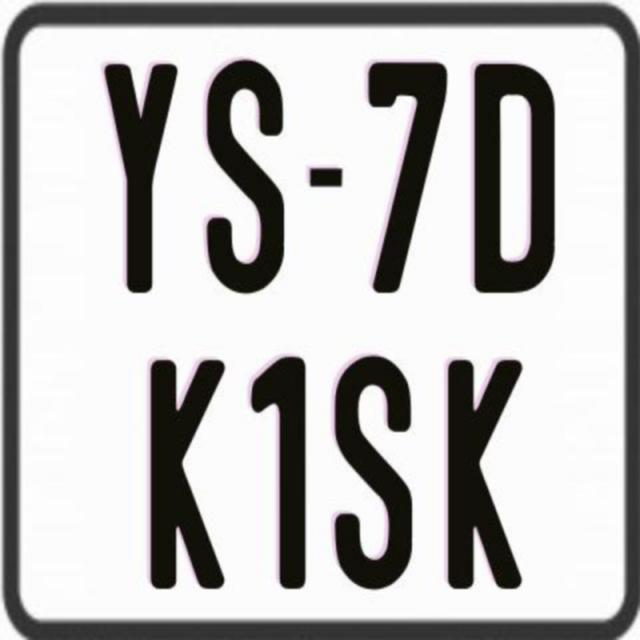1: (248, 354, 309, 586)
7: (365, 61, 452, 301)
D: (472, 62, 560, 301)
K: (448, 357, 531, 587), (149, 355, 231, 584)
S: (202, 59, 288, 293), (332, 354, 409, 590)
Y: (102, 59, 184, 296)
